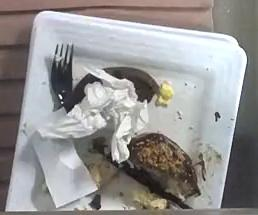dessert: (103, 67, 160, 102), (64, 74, 100, 112)
donut: (127, 132, 199, 199)
